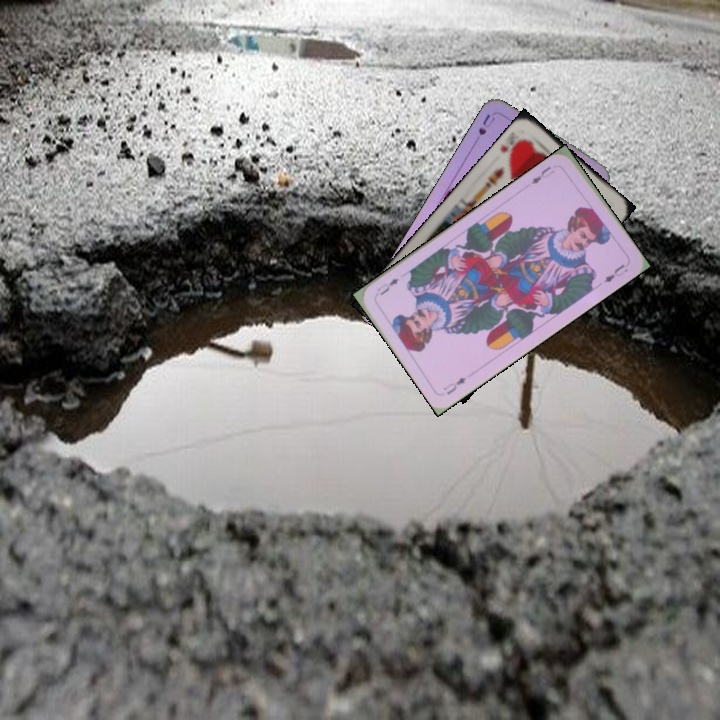EU: (527, 162, 557, 187), (439, 373, 469, 397)
HK: (496, 134, 527, 159)
SU: (469, 110, 498, 148)
